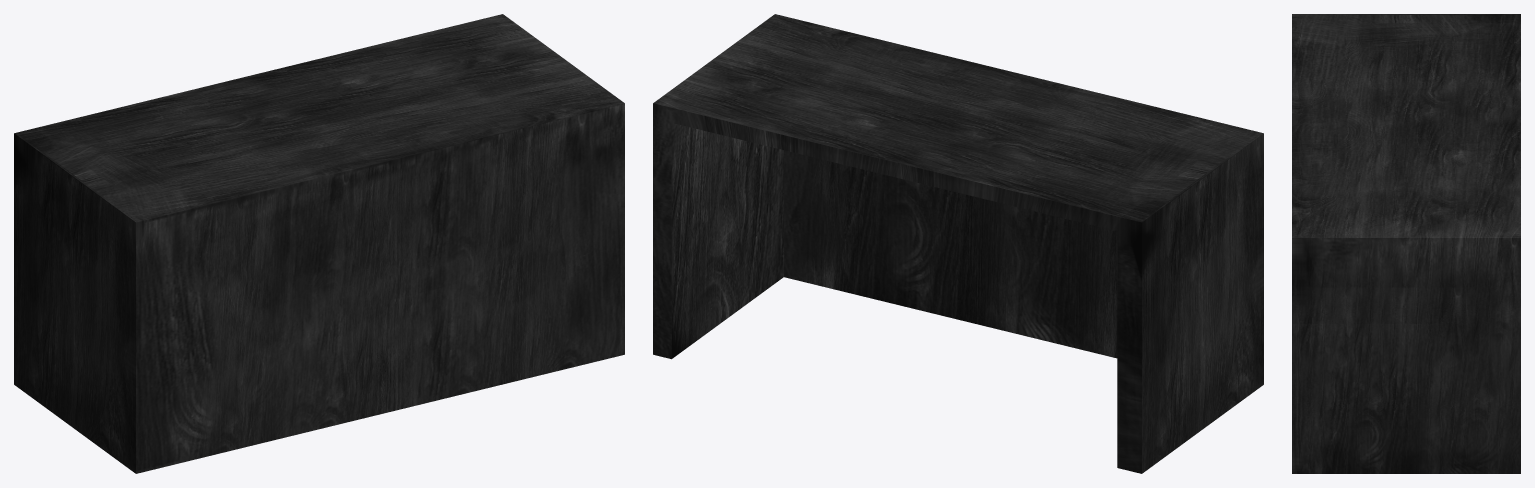
Rendered from Desk.fbx.
The picture shows the model from 3 angles, left to right: view 1: azimuth 30°, elevation 25°; view 2: azimuth 150°, elevation 25°; view 3: azimuth 270°, elevation 25°; orthographic projection. The views are drawn at different scales.
Parts seen in each view (by area): view 1: Desk; view 2: Desk; view 3: Desk.
Part boxes in pixels (x1,y1,x2,y2): Desk: (14, 14, 624, 473); Desk: (653, 14, 1263, 473); Desk: (1292, 14, 1520, 473).
Bounding box in the file's own units: 204 × 100 × 88.03.
